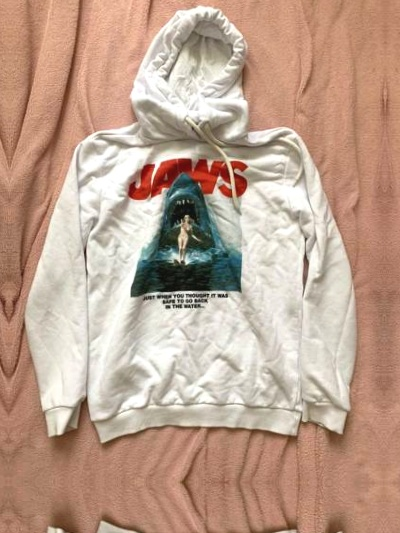Hoodie: (30, 7, 370, 454), (28, 512, 368, 533), (398, 513, 400, 533)
